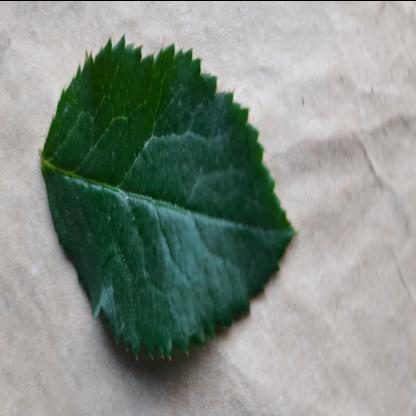normal: (40, 42, 294, 361)
